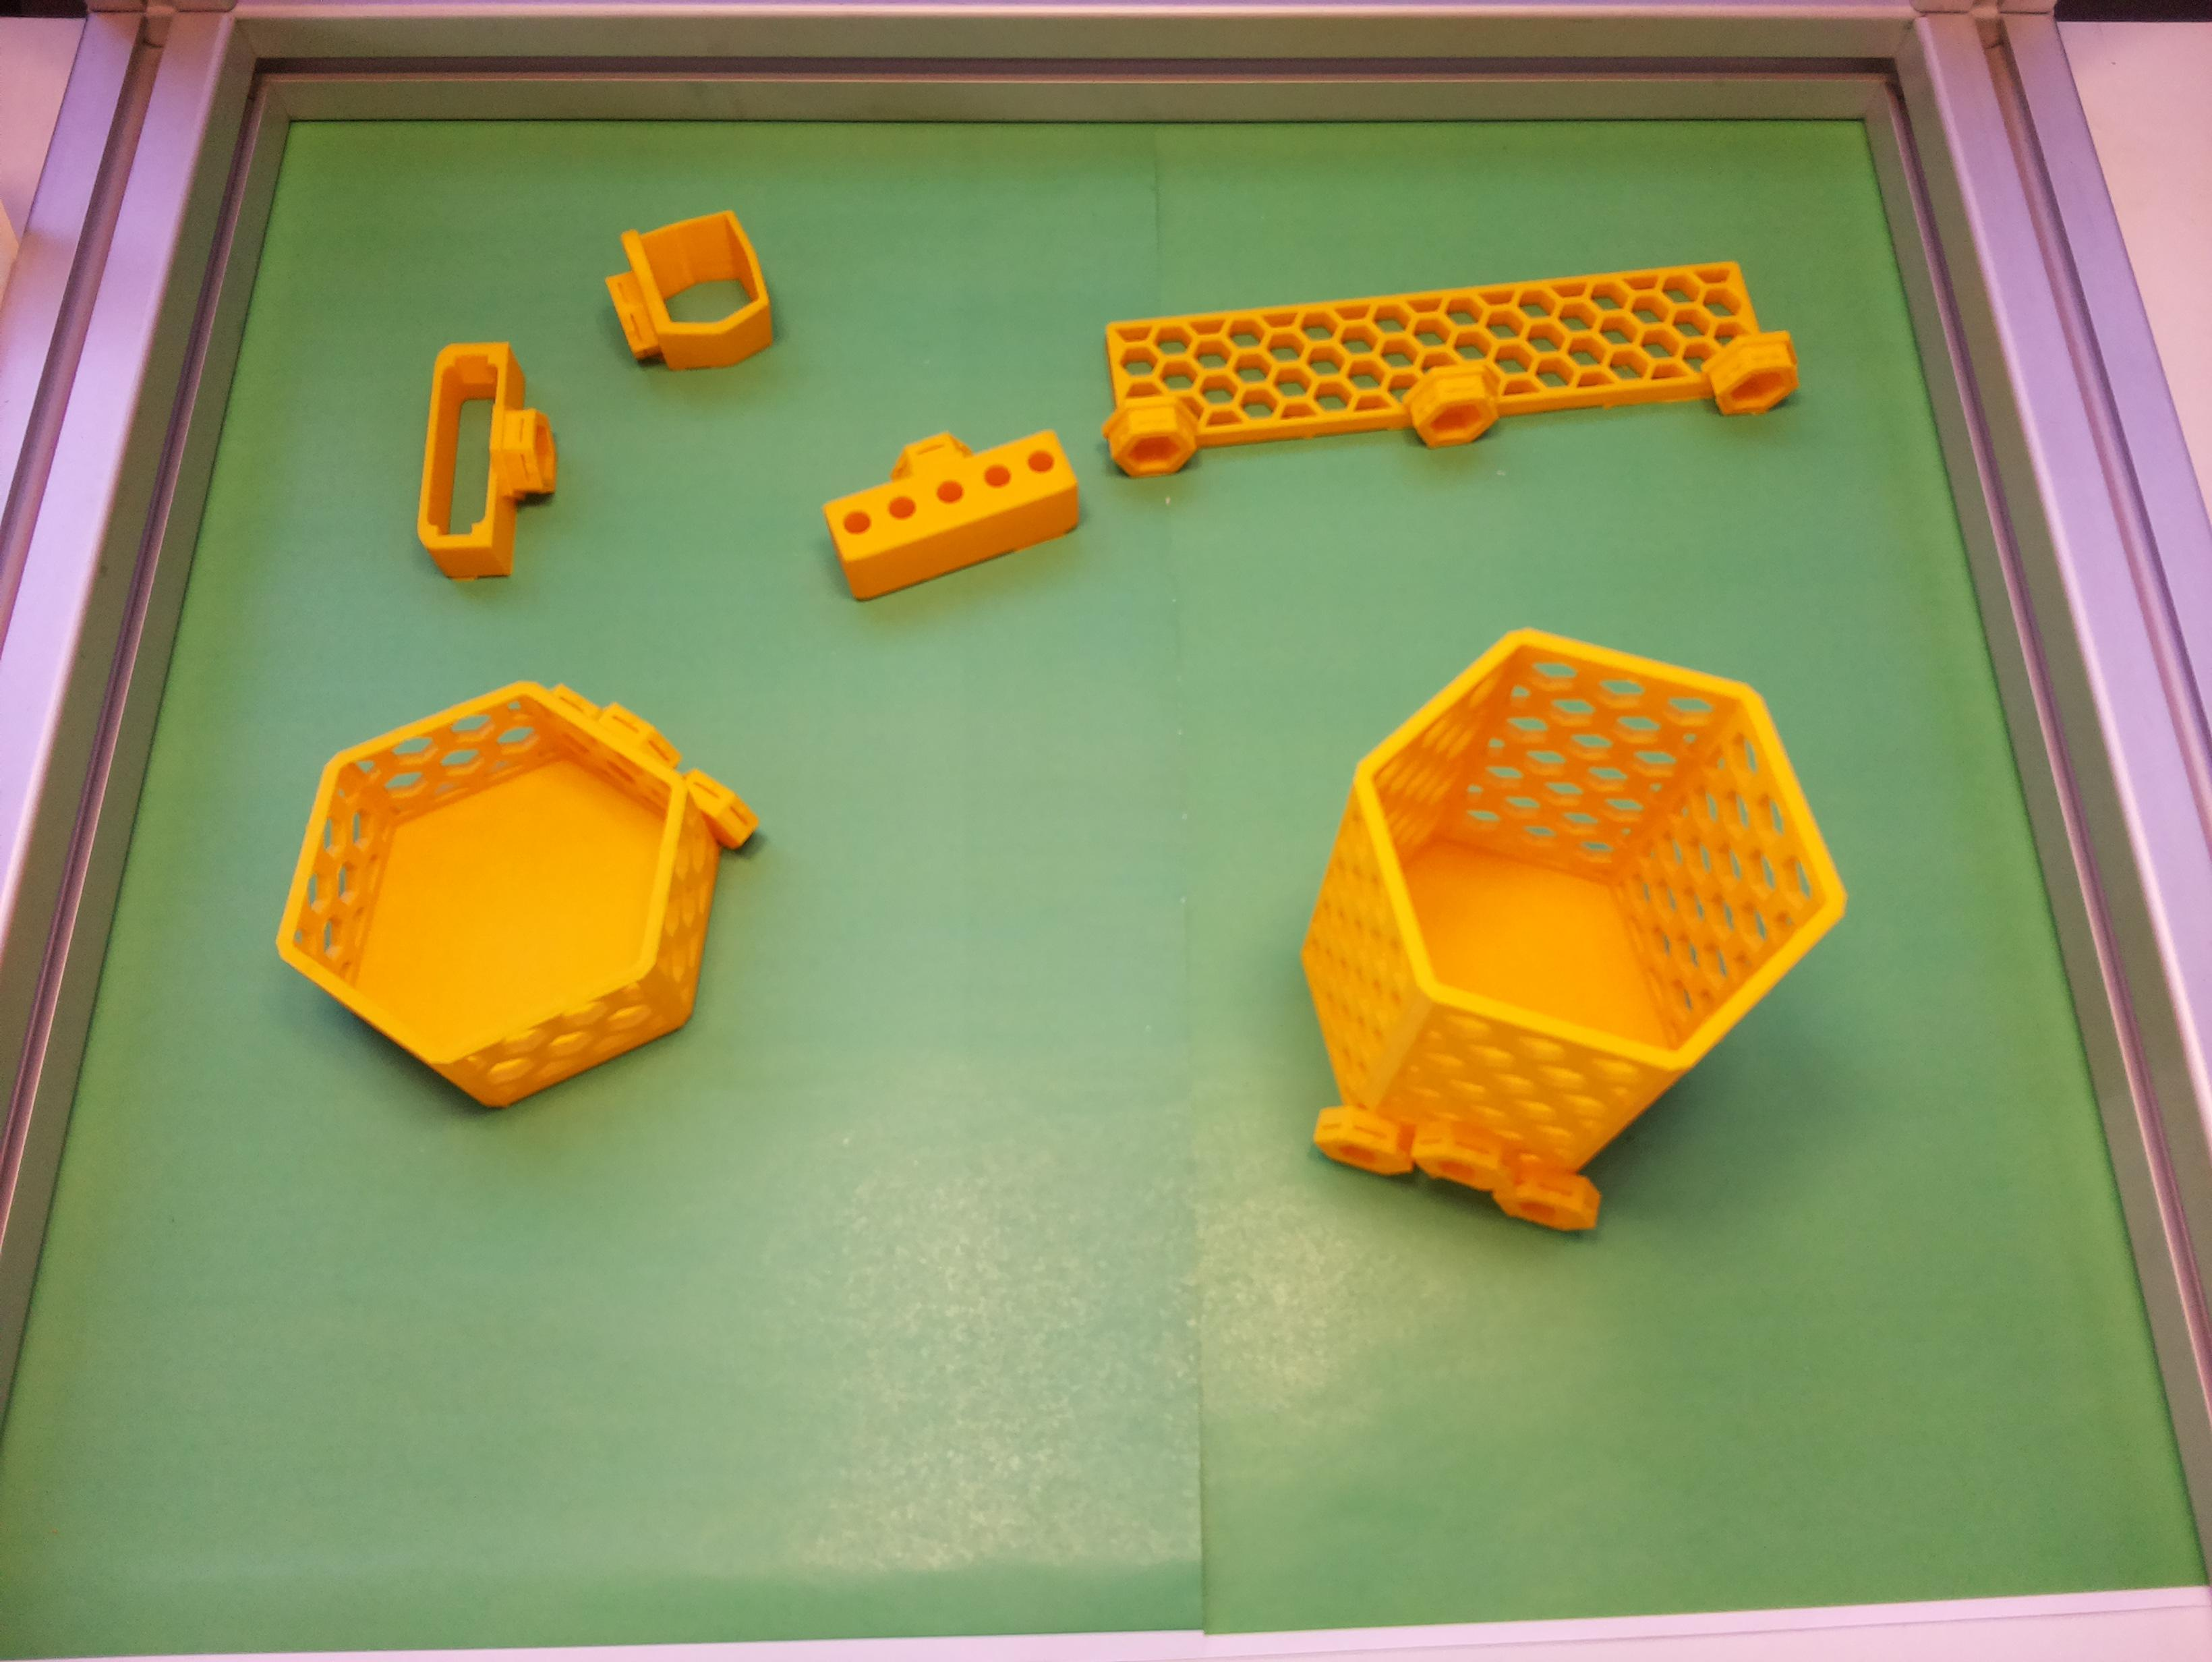bit_holder: (812, 398, 1091, 604)
bottle_holder: (220, 587, 814, 1171)
cup_holder: (1238, 578, 1901, 1288)
cutter_holder: (414, 339, 564, 585)
scissor_holder: (595, 201, 782, 389)
tool_holder: (1091, 255, 1802, 480)
